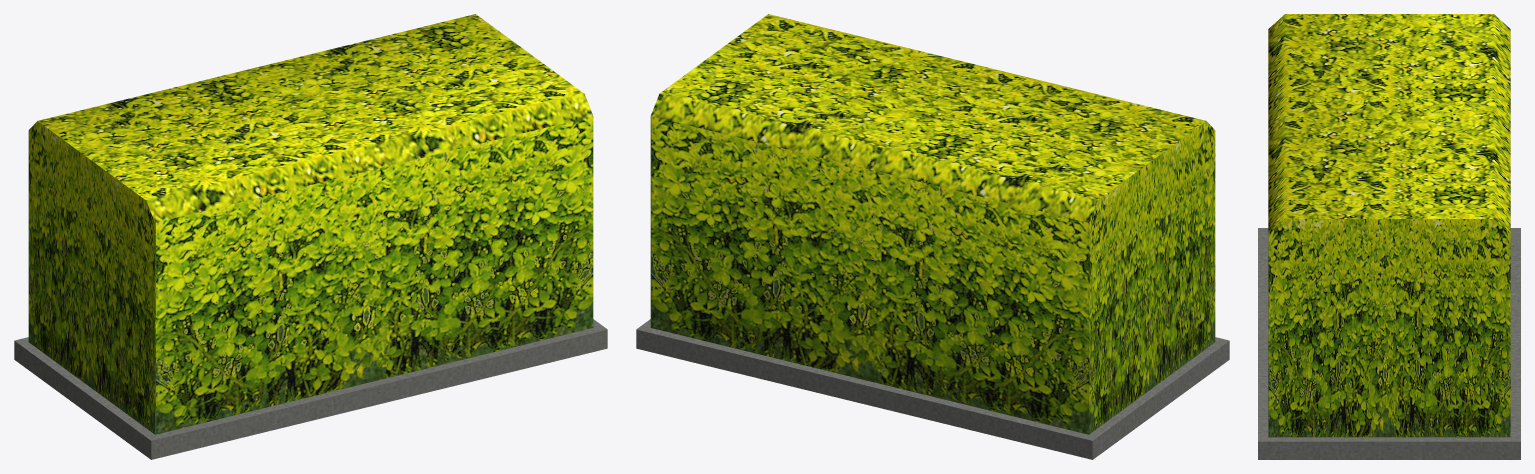
3 renders of one model, left to right at view 1: azimuth 30°, elevation 25°; view 2: azimuth 150°, elevation 25°; view 3: azimuth 270°, elevation 25°, orthographic. The views are drawn at different scales.
Visible parts, largest first — view 1: Box001, 图形001; view 2: Box001, 图形001; view 3: Box001, 图形001.
Part boxes in pixels (x1=…): Box001: x1=28, y1=14, x2=593, y2=434; 图形001: x1=14, y1=319, x2=607, y2=459; Box001: x1=650, y1=14, x2=1215, y2=434; 图形001: x1=636, y1=319, x2=1229, y2=459; Box001: x1=1268, y1=14, x2=1510, y2=437; 图形001: x1=1258, y1=228, x2=1520, y2=459.
Bounding box in the file's own units: 1.25 × 0.6458 × 0.65.
3 materials, 3 textured.
